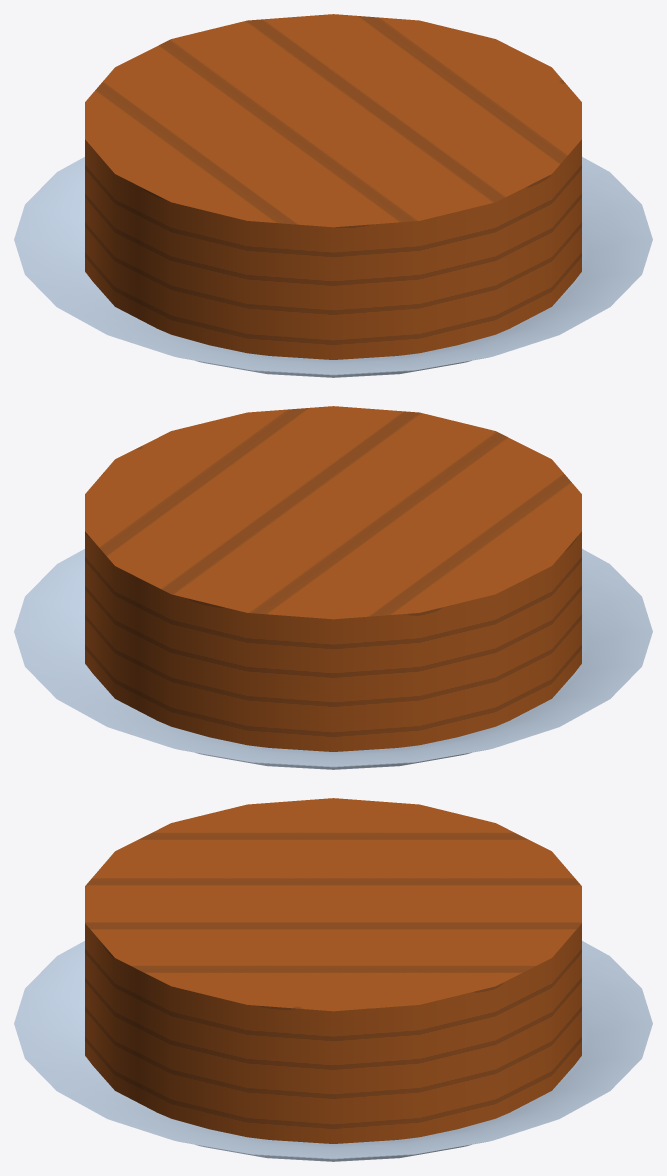
File: Cake.FBX
3 views of the same model, one above another, from view 1: azimuth 30°, elevation 25°; view 2: azimuth 150°, elevation 25°; view 3: azimuth 270°, elevation 25° (orthographic).
Visible parts, largest first — view 1: Cylinder001, Cone001; view 2: Cylinder001, Cone001; view 3: Cylinder001, Cone001.
Boxes of the visible parts, x1,y1,x2,y2 form: Cylinder001: (85,14,581,359); Cone001: (14,157,652,377); Cylinder001: (85,406,581,751); Cone001: (14,549,652,769); Cylinder001: (85,798,581,1143); Cone001: (14,941,652,1161).
Bounding box in the file's own units: 100 × 25.76 × 100.
2 materials, 2 textured.
